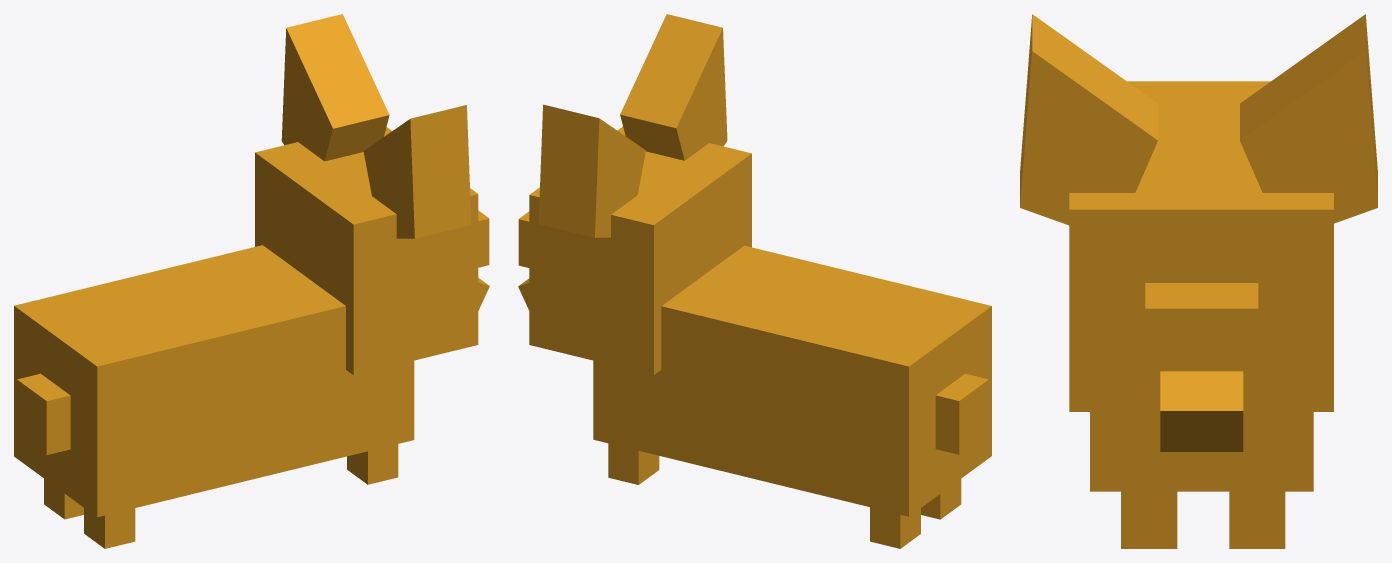
Rendered from corgi.glb.
The picture shows the model from 3 angles, left to right: view 1: azimuth 30°, elevation 25°; view 2: azimuth 150°, elevation 25°; view 3: azimuth 270°, elevation 25°; orthographic projection. The views are drawn at different scales.
Parts seen in each view (by area): view 1: Cube, Cube.001, Cube.009, Cube.008, Cube.006, Cube.002, Cube.005, Cube.003, Cube.007; view 2: Cube, Cube.001, Cube.008, Cube.009, Cube.006, Cube.003, Cube.004, Cube.002, Cube.007; view 3: Cube.001, Cube, Cube.008, Cube.009, Cube.007, Cube.010, Cube.004, Cube.005.
Boxes of the visible parts, <box> form: Cube: <box>14,245,414,517</box>; Cube.001: <box>255,127,478,375</box>; Cube.009: <box>281,14,389,161</box>; Cube.008: <box>363,105,471,238</box>; Cube.006: <box>17,373,70,454</box>; Cube.002: <box>84,508,135,548</box>; Cube.005: <box>347,444,398,484</box>; Cube.003: <box>44,478,83,519</box>; Cube.007: <box>478,210,489,267</box>; Cube: <box>593,245,991,516</box>; Cube.001: <box>529,126,751,375</box>; Cube.008: <box>620,14,727,160</box>; Cube.009: <box>538,104,645,237</box>; Cube.006: <box>935,373,988,454</box>; Cube.003: <box>870,507,920,548</box>; Cube.004: <box>608,443,659,484</box>; Cube.002: <box>921,479,961,519</box>; Cube.007: <box>518,211,529,267</box>; Cube.001: <box>1069,127,1333,411</box>; Cube: <box>1090,81,1313,491</box>; Cube.008: <box>1020,14,1157,225</box>; Cube.009: <box>1240,14,1377,223</box>; Cube.007: <box>1145,283,1258,371</box>; Cube.010: <box>1160,371,1243,451</box>; Cube.004: <box>1229,491,1285,548</box>; Cube.005: <box>1121,491,1177,548</box>.
Size of the model in its own units: 6.14 by 5.15 by 3.2.
